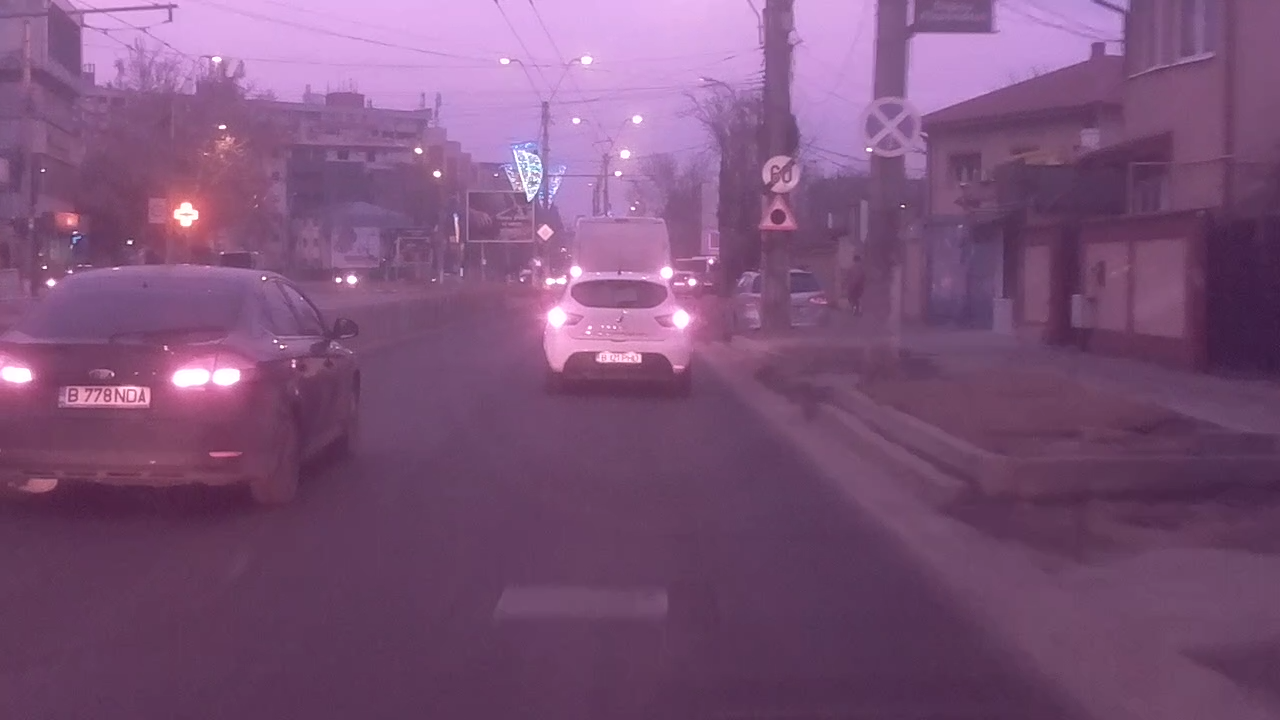license-plate: (52, 382, 153, 409), (595, 351, 644, 365)
